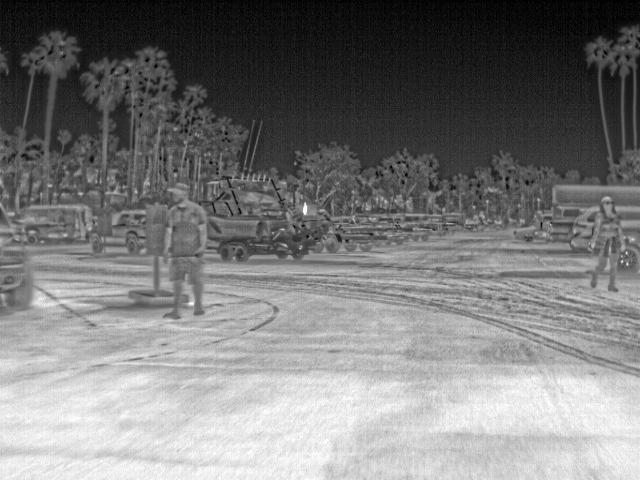car: (548, 185, 638, 242), (1, 206, 32, 312), (14, 204, 92, 246), (89, 208, 149, 253), (568, 209, 602, 253), (613, 205, 639, 230), (511, 225, 538, 244)
person: (165, 183, 212, 322), (587, 193, 623, 290)
